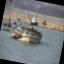fishing boat: (20, 16, 45, 46), (0, 13, 25, 34), (8, 26, 22, 40)
